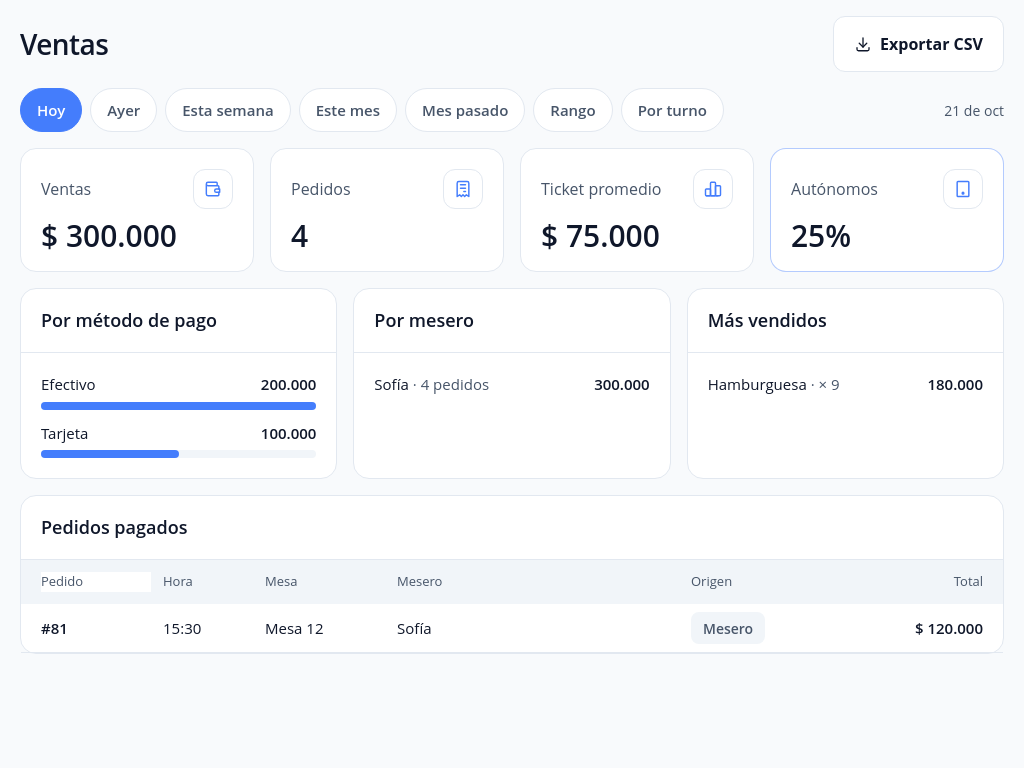
Test case: con «Este mes» pide el resumen del periodo una sola vez
The image size is (1024, 768).
Check: the text "Efectivo" is shown, box [41, 373, 96, 396]
Click the button "Este mes" at x=348, y=110, box [299, 88, 397, 132]
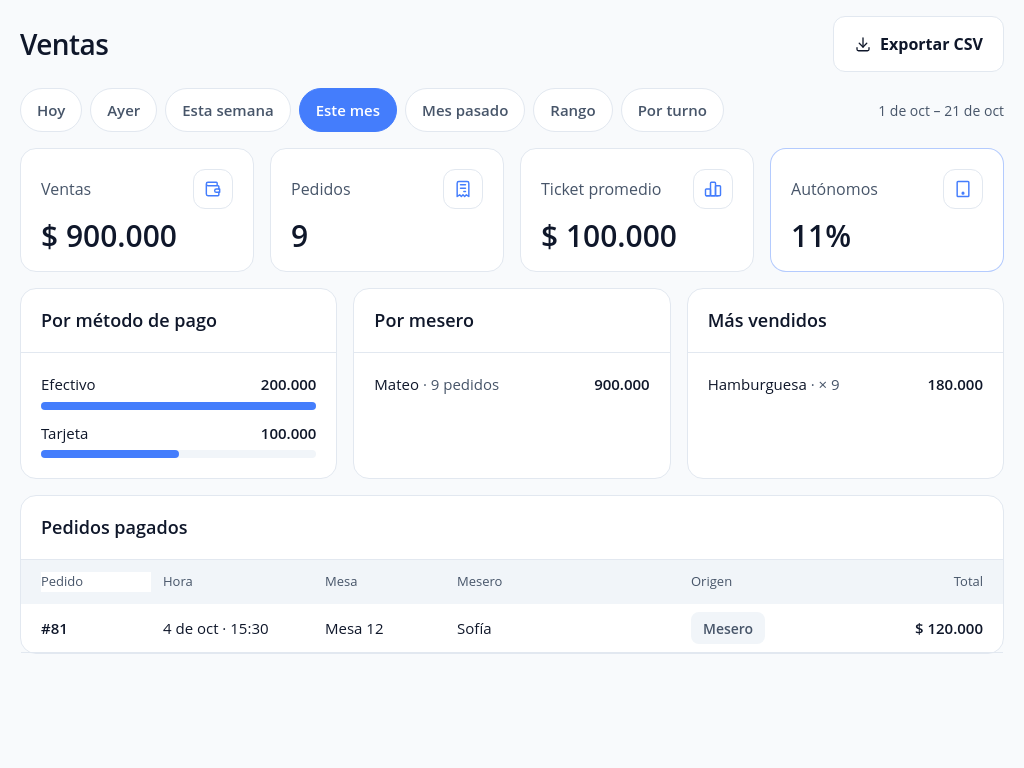
Check: the text "$ 900.000" is shown, box [41, 215, 177, 256]
Check: the text "Mateo" is shown, box [374, 374, 419, 394]
